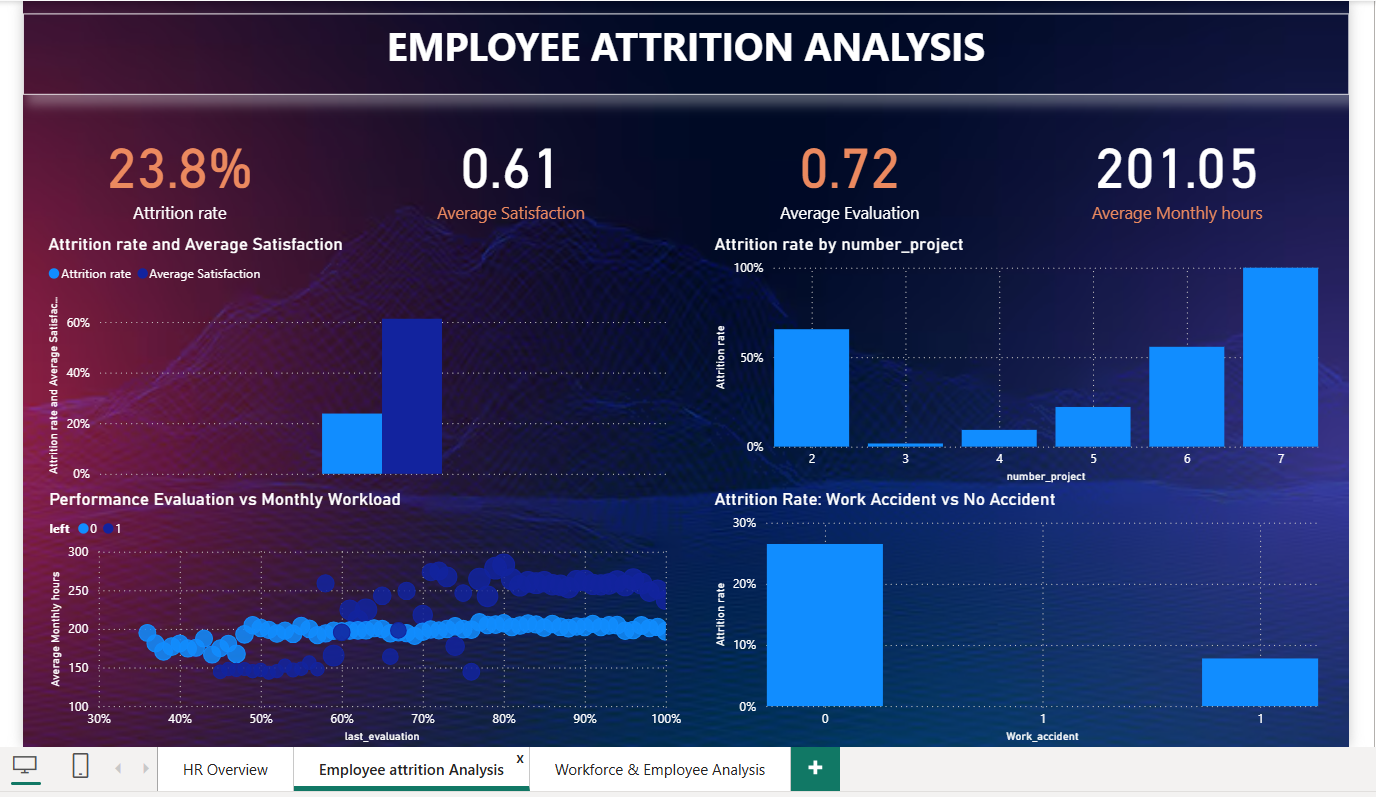

The page's visual inventory and layout, read from the dashboard file:
{"tool":"powerbi","page":{"name":"Employee attrition  Analysis","canvas":[1280,720],"ordinal":1},"visuals":[{"type":"card","fields":{"Values":["HR_Employee_Data.Attrition rate"]},"box":[20.5,107.4,261.8,105],"z":0},{"type":"card","fields":{"Values":["HR_Employee_Data.Satisfaction Rate"]},"box":[324.5,107.4,293.2,105],"z":1000},{"type":"card","fields":{"Values":["HR_Employee_Data.Average Evaluation"]},"box":[662.3,107.4,271.4,105],"z":2000},{"type":"card","fields":{"Values":["HR_Employee_Data.Average Monthly hours"]},"box":[973.6,107.4,281.1,105],"z":3000},{"type":"clusteredColumnChart","fields":{"Y":["HR_Employee_Data.Attrition rate","HR_Employee_Data.Satisfaction Rate"]},"box":[0,224.4,639.4,246.1],"z":4000},{"type":"clusteredColumnChart","fields":{"Y":["HR_Employee_Data.Attrition rate"],"Category":["HR_Employee_Data.number_project"]},"box":[640.6,224.4,639.4,246.1],"z":5000},{"type":"scatterChart","title":"Performance Evaluation vs Monthly Workload","fields":{"Y":["HR_Employee_Data.Average Monthly hours"],"X":["HR_Employee_Data.last_evaluation"],"Series":["HR_Employee_Data.left"],"Size":["Avg(HR_Employee_Data.number_project)"]},"box":[0,470.5,639.4,249.7],"z":6000},{"type":"clusteredColumnChart","title":"Attrition Rate: Work Accident vs No Accident","fields":{"Category":["HR_Employee_Data.Work_accident"],"Y":["HR_Employee_Data.Attrition rate"]},"box":[639.4,470.5,640.6,249.7],"z":7000},{"type":"textbox","box":[0,12.1,1280,78.4],"z":8000}]}

Visuals, with their boxes on the page's 1280x720 design canvas (x1, y1, x2, y2). These are canvas units, not pixel positions in the 1376x797 screenshot, which may show the page scaled, cropped or inside an application window:
card - HR_Employee_Data.Attrition rate: x1=20, y1=107, x2=282, y2=212
card - HR_Employee_Data.Satisfaction Rate: x1=324, y1=107, x2=618, y2=212
card - HR_Employee_Data.Average Evaluation: x1=662, y1=107, x2=934, y2=212
card - HR_Employee_Data.Average Monthly hours: x1=974, y1=107, x2=1255, y2=212
clusteredColumnChart - HR_Employee_Data.Attrition rate x HR_Employee_Data.Satisfaction Rate: x1=0, y1=224, x2=639, y2=470
clusteredColumnChart - HR_Employee_Data.Attrition rate x HR_Employee_Data.number_project: x1=641, y1=224, x2=1280, y2=470
"Performance Evaluation vs Monthly Workload" scatterChart: x1=0, y1=470, x2=639, y2=720
"Attrition Rate: Work Accident vs No Accident" clusteredColumnChart: x1=639, y1=470, x2=1280, y2=720
textbox: x1=0, y1=12, x2=1280, y2=90
